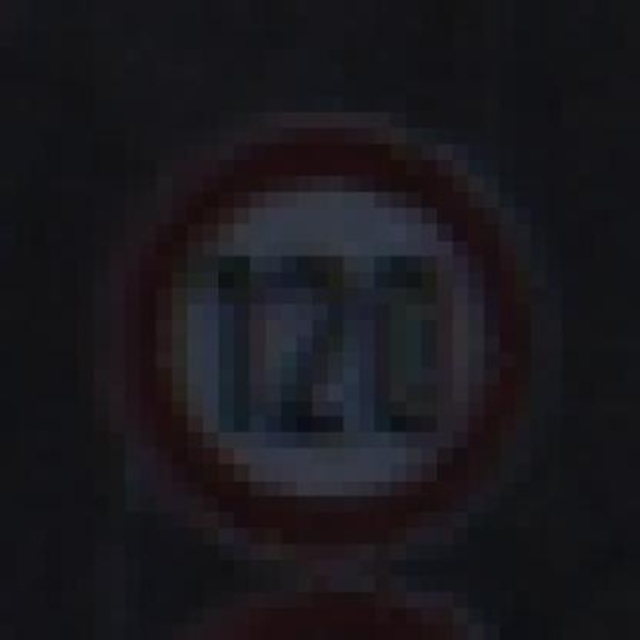Tốc độ tối đa cho phép 120km/h: (133, 124, 518, 547)
